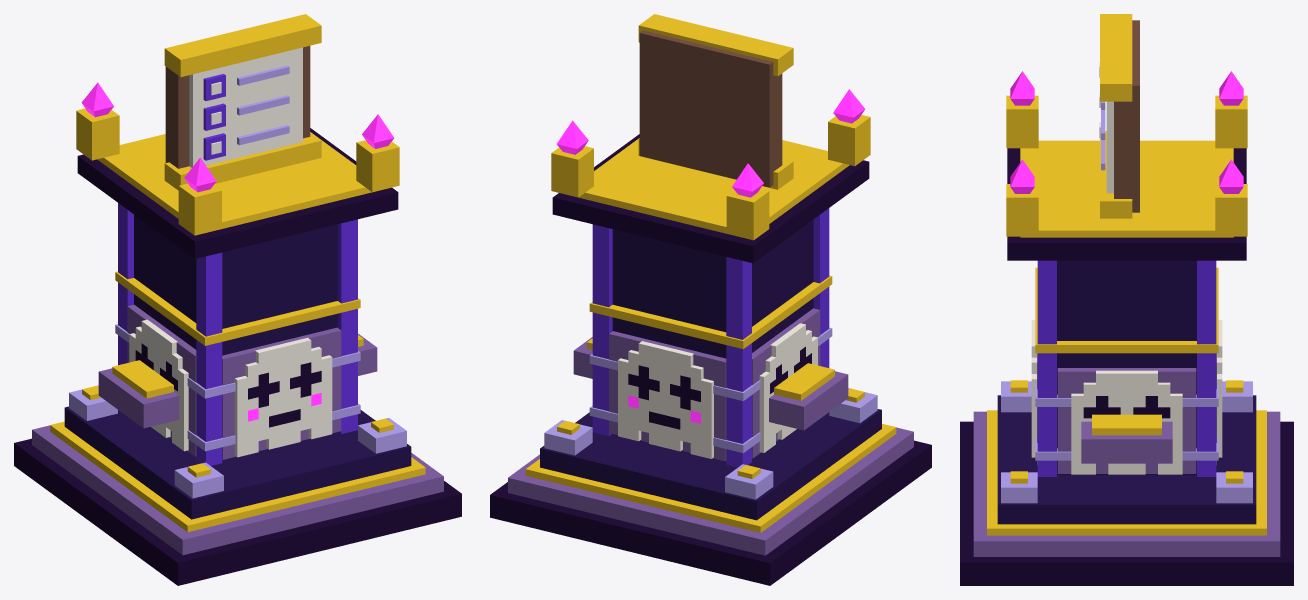
The model's file is task-tier-3.glb.
The picture shows the model from 3 angles, left to right: view 1: azimuth 30°, elevation 25°; view 2: azimuth 150°, elevation 25°; view 3: azimuth 270°, elevation 25°; orthographic projection. The views are drawn at different scales.
Visible parts, largest first — view 1: base-deep, base-gold, base-ink, base-stone, base-cream, base-purple, crown-cream, crown-gold, base-lavender, crown-wood, base-pink, crown-lavender (+1 smaller); view 2: base-deep, base-gold, base-ink, crown-wood, base-stone, base-cream, base-purple, base-lavender, crown-gold, base-pink; view 3: base-gold, base-deep, base-ink, base-stone, base-purple, base-cream, base-lavender, crown-gold, crown-wood, base-pink, crown-cream.
Boxes of the visible parts, bbox=[...] form: base-deep: bbox=[64, 214, 411, 519]; base-gold: bbox=[50, 108, 425, 532]; base-ink: bbox=[14, 128, 461, 585]; base-stone: bbox=[32, 304, 443, 555]; base-cream: bbox=[129, 319, 332, 457]; base-purple: bbox=[118, 203, 357, 465]; crown-cream: bbox=[189, 47, 302, 167]; crown-gold: bbox=[164, 14, 321, 190]; base-lavender: bbox=[69, 324, 406, 498]; crown-wood: bbox=[165, 46, 310, 168]; base-pink: bbox=[81, 82, 394, 421]; crown-lavender: bbox=[237, 65, 289, 145]; base-deep: bbox=[540, 219, 881, 520]; base-gold: bbox=[525, 115, 896, 532]; base-ink: bbox=[490, 134, 931, 585]; crown-wood: bbox=[639, 30, 782, 187]; base-stone: bbox=[508, 308, 913, 555]; base-cream: bbox=[618, 323, 817, 458]; base-purple: bbox=[592, 208, 829, 467]; base-lavender: bbox=[544, 327, 877, 499]; crown-gold: bbox=[638, 14, 793, 189]; base-pink: bbox=[557, 89, 864, 423]; base-gold: bbox=[987, 95, 1266, 535]; base-deep: bbox=[997, 260, 1256, 524]; base-ink: bbox=[960, 148, 1293, 585]; base-stone: bbox=[973, 353, 1280, 556]; base-purple: bbox=[1037, 260, 1216, 476]; base-cream: bbox=[1031, 320, 1222, 474]; base-lavender: bbox=[1001, 381, 1252, 503]; crown-gold: bbox=[1100, 14, 1132, 218]; crown-wood: bbox=[1114, 20, 1139, 212]; base-pink: bbox=[1010, 71, 1243, 193]; crown-cream: bbox=[1099, 62, 1113, 193].
Size of the model in its own units: 3.1 by 4.78 by 3.1.
